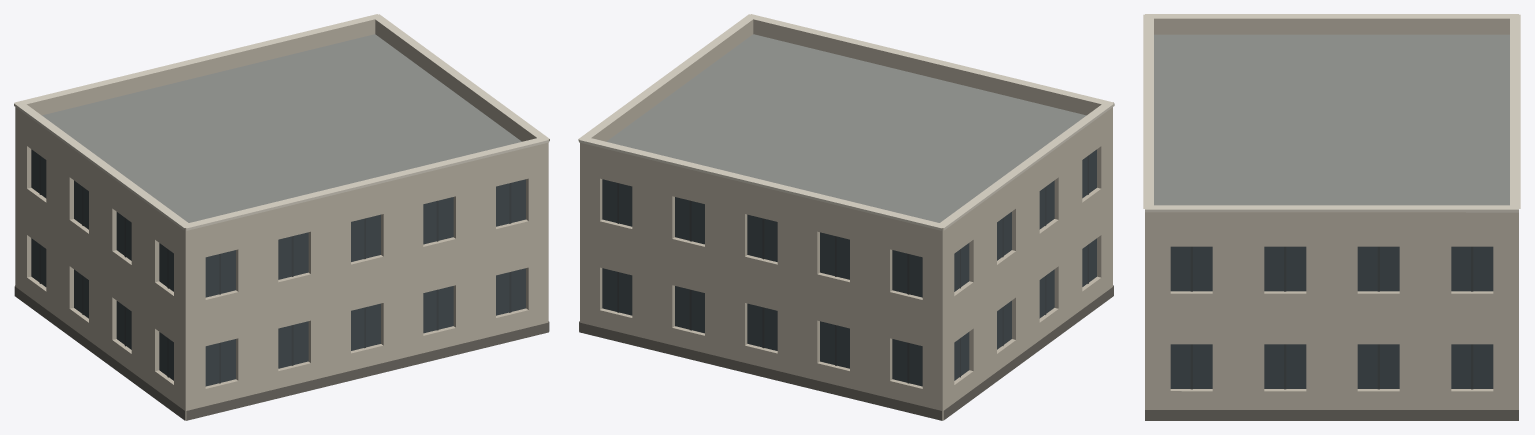
3 views of the same model, side by side, from view 1: azimuth 30°, elevation 25°; view 2: azimuth 150°, elevation 25°; view 3: azimuth 270°, elevation 25° (orthographic). The views are drawn at different scales.
Visible parts, largest first — view 1: engineeringSmall__wall, engineeringSmall__roof, engineeringSmall__glass, engineeringSmall__parapet, engineeringSmall__trim, engineeringSmall__base, engineeringSmall__frame; view 2: engineeringSmall__wall, engineeringSmall__roof, engineeringSmall__glass, engineeringSmall__parapet, engineeringSmall__trim, engineeringSmall__base, engineeringSmall__frame; view 3: engineeringSmall__roof, engineeringSmall__wall, engineeringSmall__glass, engineeringSmall__parapet, engineeringSmall__trim, engineeringSmall__base, engineeringSmall__frame.
Part boxes in pixels (x1,y1,x2,y2): engineeringSmall__wall: (15,118,548,420); engineeringSmall__roof: (42,34,521,420); engineeringSmall__glass: (31,149,525,386); engineeringSmall__parapet: (15,19,548,242); engineeringSmall__trim: (14,14,549,230); engineeringSmall__base: (14,285,549,420); engineeringSmall__frame: (39,155,511,383); engineeringSmall__wall: (580,118,1112,420); engineeringSmall__roof: (606,34,1086,420); engineeringSmall__glass: (602,149,1096,386); engineeringSmall__parapet: (580,19,1112,242); engineeringSmall__trim: (578,14,1114,230); engineeringSmall__base: (579,285,1113,420); engineeringSmall__frame: (617,155,1088,383); engineeringSmall__roof: (1154,34,1509,205); engineeringSmall__wall: (1145,225,1518,409); engineeringSmall__glass: (1170,246,1493,388); engineeringSmall__parapet: (1145,18,1518,225); engineeringSmall__trim: (1143,14,1520,212); engineeringSmall__base: (1145,410,1518,420); engineeringSmall__frame: (1190,246,1473,389).
Size of the model in its own units: 15.49 by 7.82 by 12.63.
